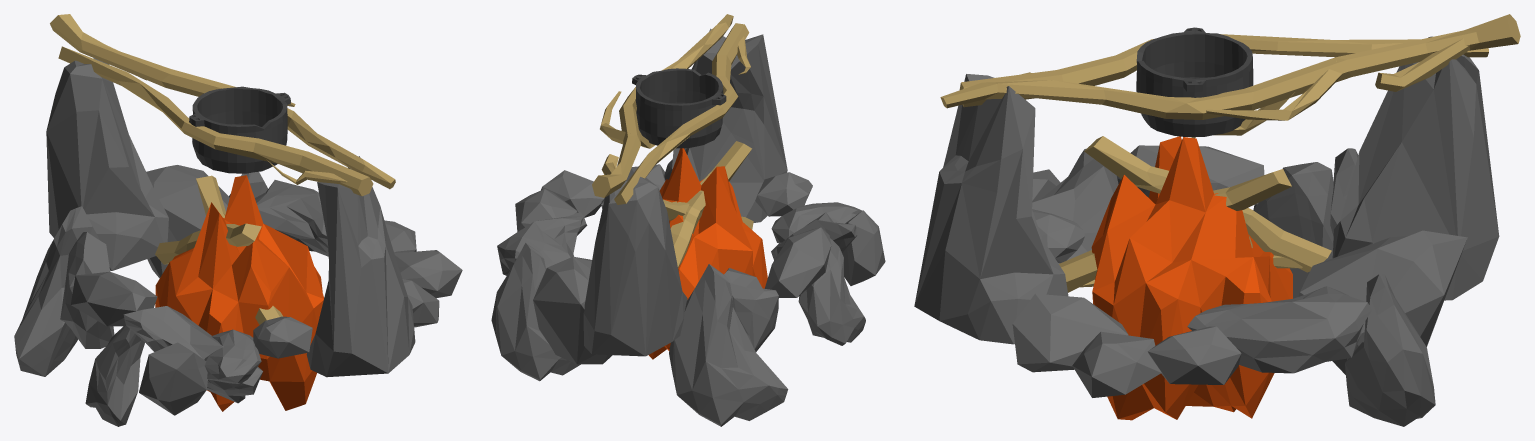
The model's file is Campfire from Minzkraut.Sketchfab.fbx.
3 renders of one model, left to right at view 1: azimuth 30°, elevation 25°; view 2: azimuth 150°, elevation 25°; view 3: azimuth 270°, elevation 25°, orthographic. The views are drawn at different scales.
Visible parts, largest first — view 1: Mball.002, Icosphere.084, Icosphere.083, NurbsPath.018, Icosphere.078, Circle.013, NurbsPath.019, Icosphere.085, Icosphere.081, Icosphere.080, Icosphere.074, Icosphere.073 (+9 smaller); view 2: Icosphere.084, Icosphere.078, Icosphere.083, Mball.002, Icosphere.086, Circle.013, Icosphere.073, NurbsPath.019, Icosphere.085, NurbsPath.018, Icosphere.077, Icosphere.074 (+10 smaller); view 3: Mball.002, Icosphere.083, Icosphere.084, NurbsPath.019, Icosphere.074, Icosphere.073, Icosphere.086, Circle.013, Icosphere.082, NurbsPath.018, Icosphere.076, NurbsPath.020 (+8 smaller).
Boxes of the visible parts, box(x1,y1,x2,y2) form: Mball.002: box(155, 175, 323, 411); Icosphere.084: box(46, 57, 168, 270); Icosphere.083: box(306, 156, 415, 377); NurbsPath.018: box(58, 46, 373, 196); Icosphere.078: box(14, 206, 99, 376); Circle.013: box(189, 86, 290, 173); NurbsPath.019: box(50, 14, 395, 189); Icosphere.085: box(85, 324, 144, 426); Icosphere.081: box(123, 306, 262, 403); Icosphere.080: box(139, 342, 207, 415); Icosphere.074: box(255, 180, 328, 256); Icosphere.073: box(146, 165, 229, 278); Icosphere.084: box(583, 177, 687, 356); Icosphere.078: box(669, 264, 788, 426); Icosphere.083: box(664, 28, 787, 222); Mball.002: box(648, 148, 767, 359); Icosphere.086: box(491, 242, 580, 381); Circle.013: box(632, 68, 726, 148); Icosphere.073: box(533, 256, 612, 364); NurbsPath.019: box(592, 14, 733, 197); Icosphere.085: box(798, 238, 865, 345); NurbsPath.018: box(614, 23, 750, 204); Icosphere.077: box(764, 227, 831, 297); Icosphere.074: box(497, 212, 587, 275); Mball.002: box(1091, 136, 1292, 420); Icosphere.083: box(914, 74, 1068, 344); Icosphere.084: box(1332, 36, 1499, 300); NurbsPath.019: box(940, 14, 1520, 138); Icosphere.074: box(1187, 286, 1371, 373); Icosphere.073: box(1298, 230, 1467, 374); Icosphere.086: box(1345, 274, 1435, 426); Circle.013: box(1136, 27, 1253, 136); Icosphere.082: box(1012, 293, 1128, 372); NurbsPath.018: box(959, 34, 1488, 107); Icosphere.076: box(1253, 162, 1333, 298); NurbsPath.020: box(1084, 136, 1331, 272).
Size of the model in its own units: 419 by 340 by 514.
